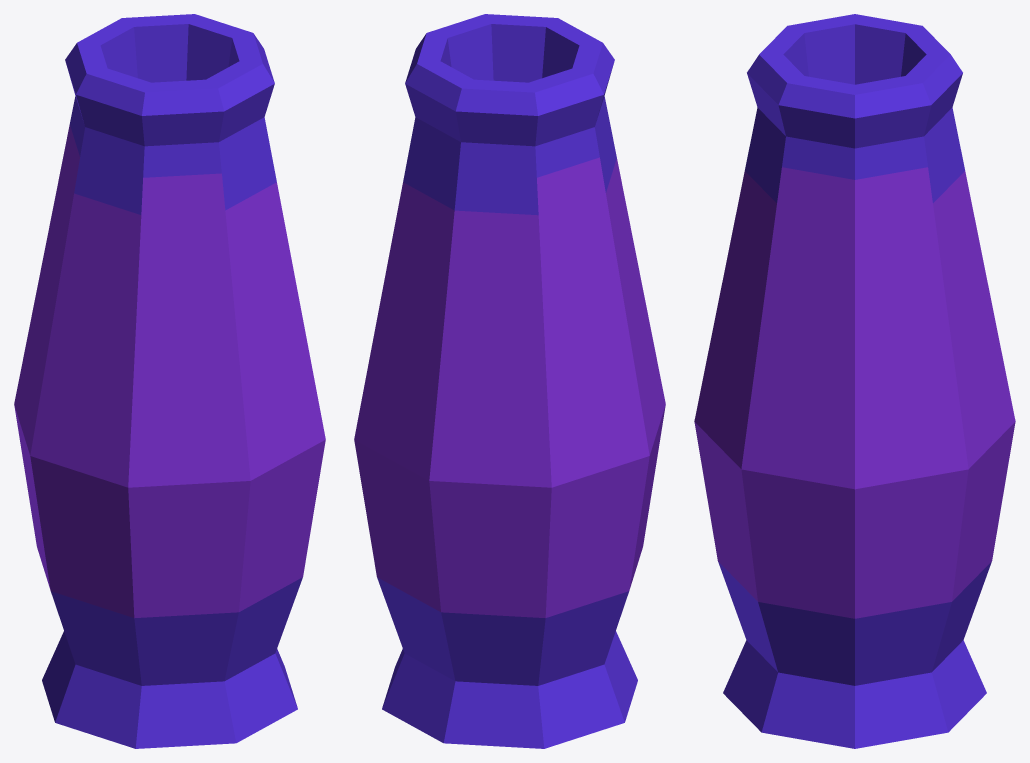
Rendered from Garden_EmptyVase_Purple.fbx.
3 renders of one model, left to right at view 1: azimuth 30°, elevation 25°; view 2: azimuth 150°, elevation 25°; view 3: azimuth 270°, elevation 25°, orthographic.
Parts seen in each view (by area): view 1: Cylinder.051; view 2: Cylinder.051; view 3: Cylinder.051.
Boxes of the visible parts, x1,y1,x2,y2 form: Cylinder.051: (14, 14, 325, 748); Cylinder.051: (354, 14, 665, 748); Cylinder.051: (694, 14, 1015, 748).
Bounding box in the file's own units: 18.04 × 39.56 × 18.04.
